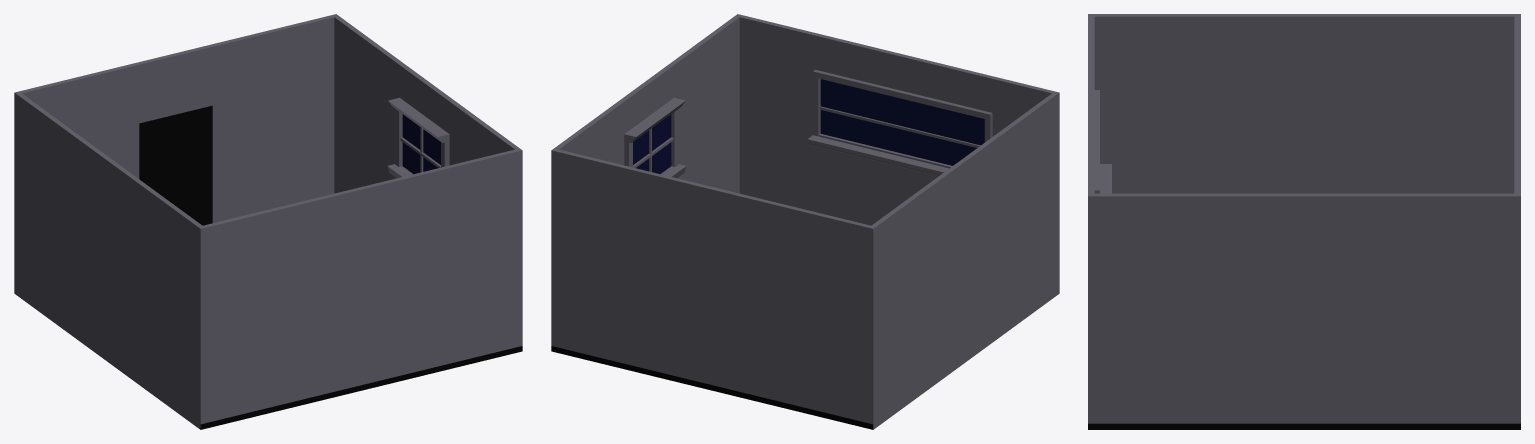
File: Set.fbx
3 views of the same model, side by side, from view 1: azimuth 30°, elevation 25°; view 2: azimuth 150°, elevation 25°; view 3: azimuth 270°, elevation 25° (orthographic). The views are drawn at different scales.
Parts seen in each view (by area): view 1: SET; view 2: SET; view 3: SET.
Part boxes in pixels (x1,y1,x2,y2): SET: (14, 14, 522, 429); SET: (551, 14, 1059, 429); SET: (1088, 14, 1520, 429).
Bounding box in the file's own units: 2828 × 1688 × 2834.
